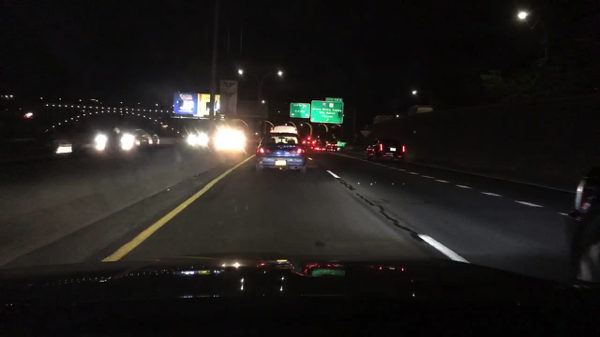bus: (270, 126, 299, 134)
car: (564, 165, 598, 281), (257, 134, 308, 174), (366, 140, 406, 161), (129, 129, 149, 146), (187, 132, 209, 145), (147, 133, 159, 143), (302, 140, 315, 149), (325, 142, 337, 151), (313, 144, 324, 152)
traffic sign: (309, 100, 344, 124), (289, 102, 311, 118), (325, 98, 342, 102), (337, 142, 347, 147)
